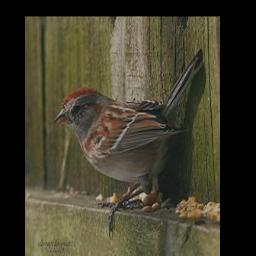Sparrow: (53, 48, 205, 239)
